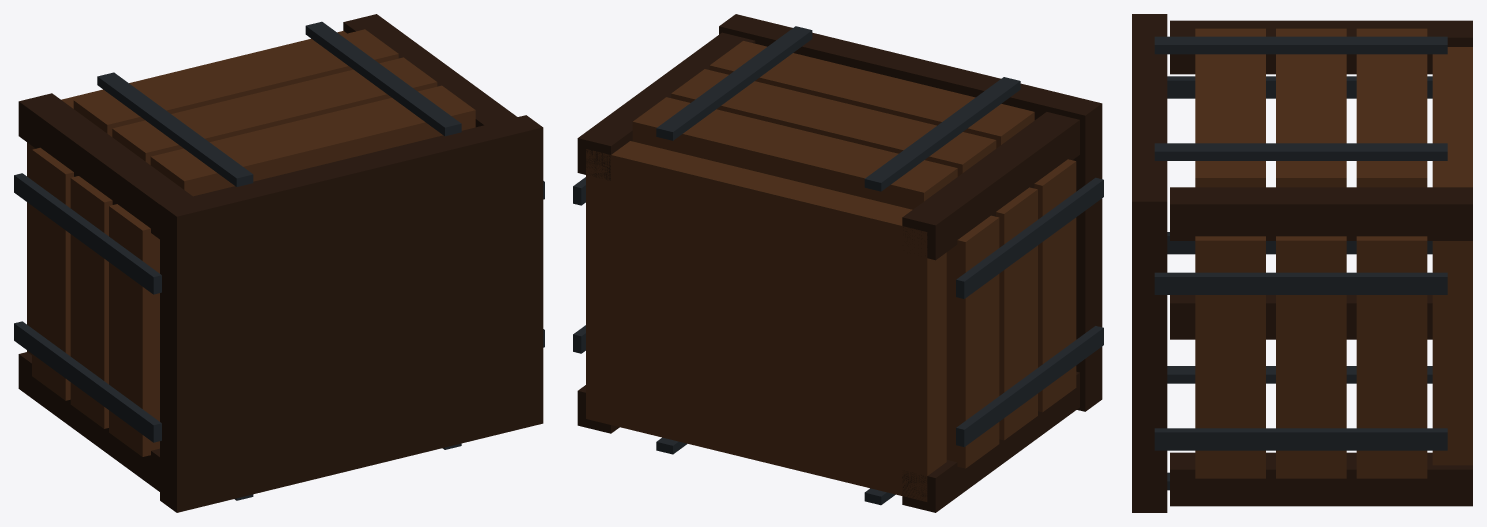
The model's file is Northern_Supply_Crate.obj.
3 renders of one model, left to right at view 1: azimuth 30°, elevation 25°; view 2: azimuth 150°, elevation 25°; view 3: azimuth 270°, elevation 25°, orthographic. The views are drawn at different scales.
Parts seen in each view (by area): view 1: Northern_Supply_Crate; view 2: Northern_Supply_Crate; view 3: Northern_Supply_Crate.
Part boxes in pixels (x1,y1,x2,y2): Northern_Supply_Crate: (14, 14, 544, 512); Northern_Supply_Crate: (573, 14, 1103, 512); Northern_Supply_Crate: (1132, 14, 1472, 512).
Size of the model in its own units: 94 by 74 by 67.5.
